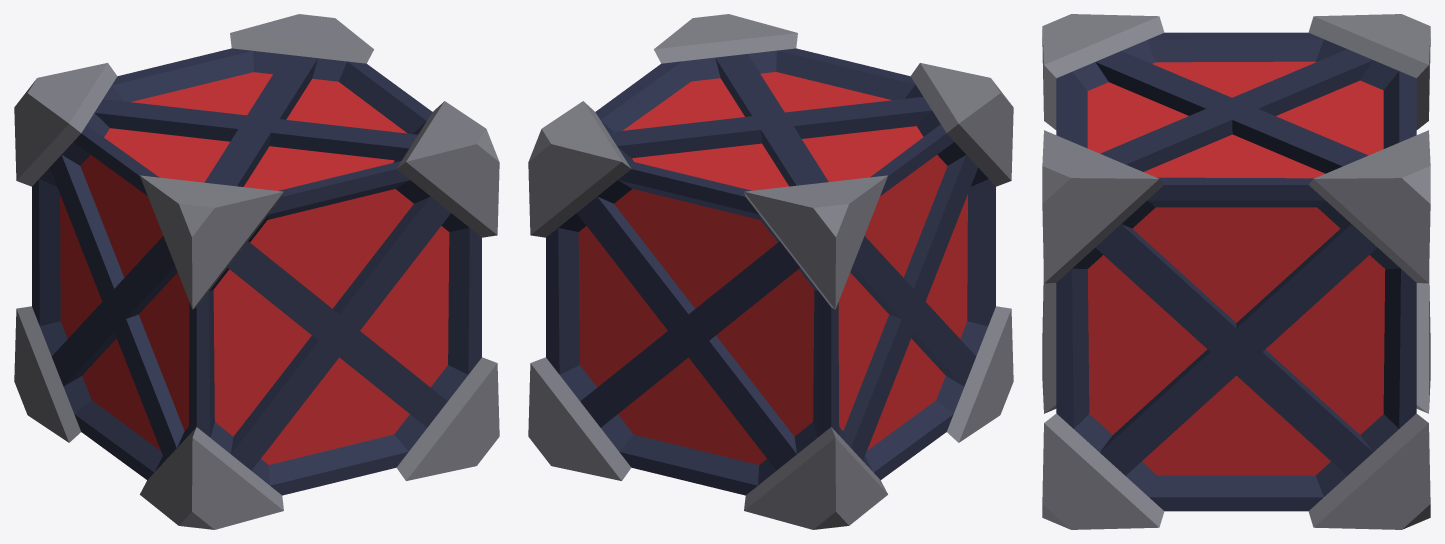
The model's file is Box_Special.fbx.
3 views of the same model, side by side, from view 1: azimuth 30°, elevation 25°; view 2: azimuth 150°, elevation 25°; view 3: azimuth 270°, elevation 25° (orthographic). The views are drawn at different scales.
Parts seen in each view (by area): view 1: Box_Special; view 2: Box_Special; view 3: Box_Special.
Part boxes in pixels (x1,y1,x2,y2): Box_Special: [14, 14, 499, 529]; Box_Special: [528, 14, 1013, 529]; Box_Special: [1042, 14, 1430, 529].
Size of the model in its own units: 146 by 146 by 146.
